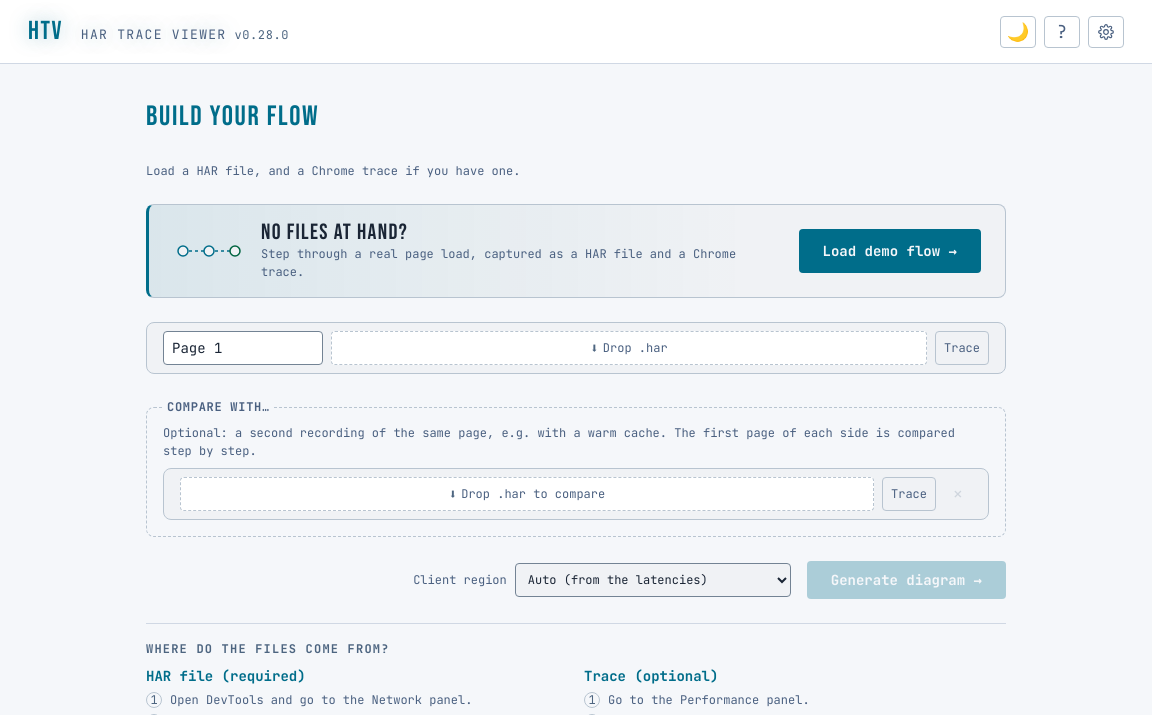
Test: App — keyboard shortcuts › the header Help button opens the getting started steps, the HAR first
Click the button named "Help".
click(1062, 32)  # box [1044,16,1080,48]
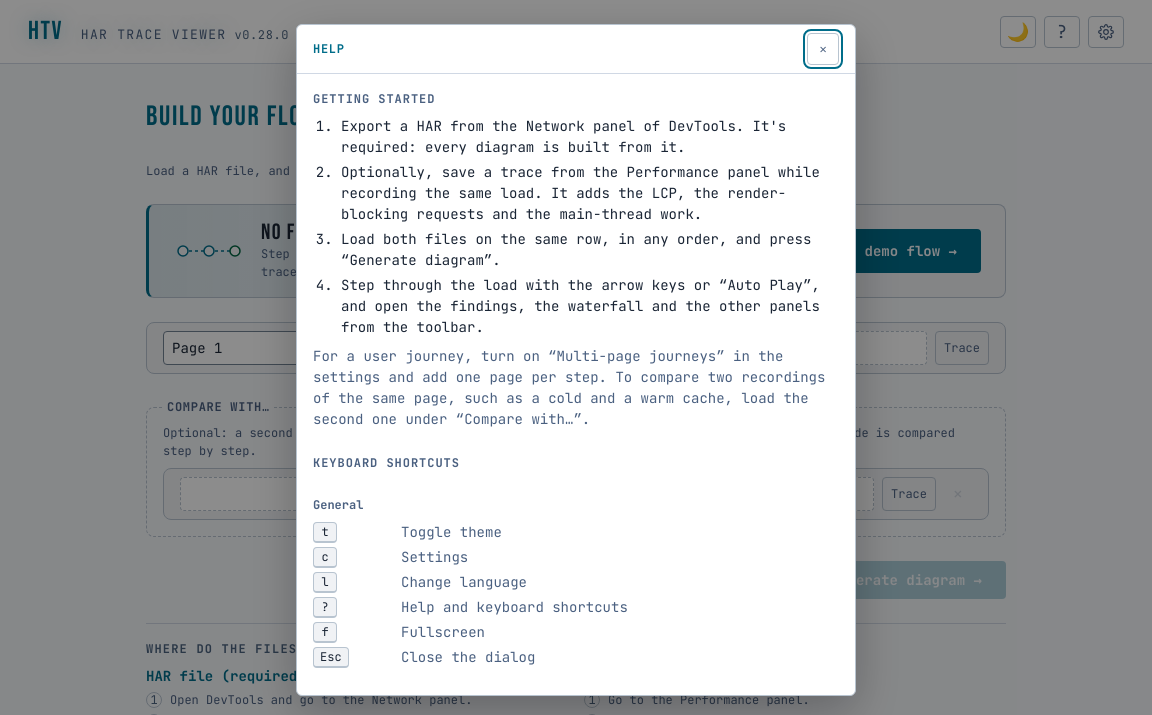
Now the 3rd list item reads "Load both files on the same row, in any order, and press “Generate diagram”.", box [341,230,811,269]
Now the text "Compare with…" is shown, box [313,347,825,428]
